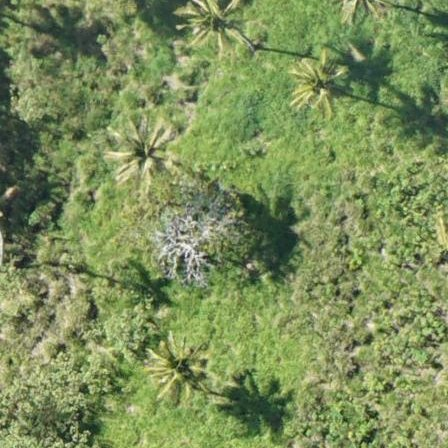palm_tree: (106, 110, 180, 190), (284, 49, 354, 119), (181, 1, 254, 55), (145, 333, 204, 396)
